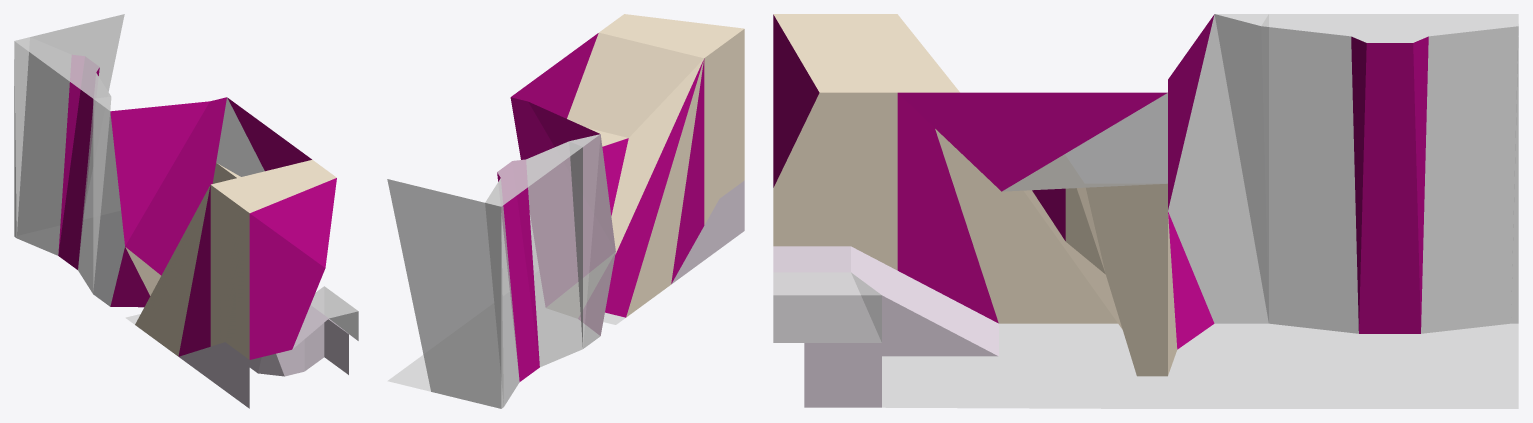
3 views of the same model, side by side, from view 1: azimuth 30°, elevation 25°; view 2: azimuth 150°, elevation 25°; view 3: azimuth 270°, elevation 25° (orthographic). The views are drawn at different scales.
Size of the model in its own units: 256 by 433 by 945.
